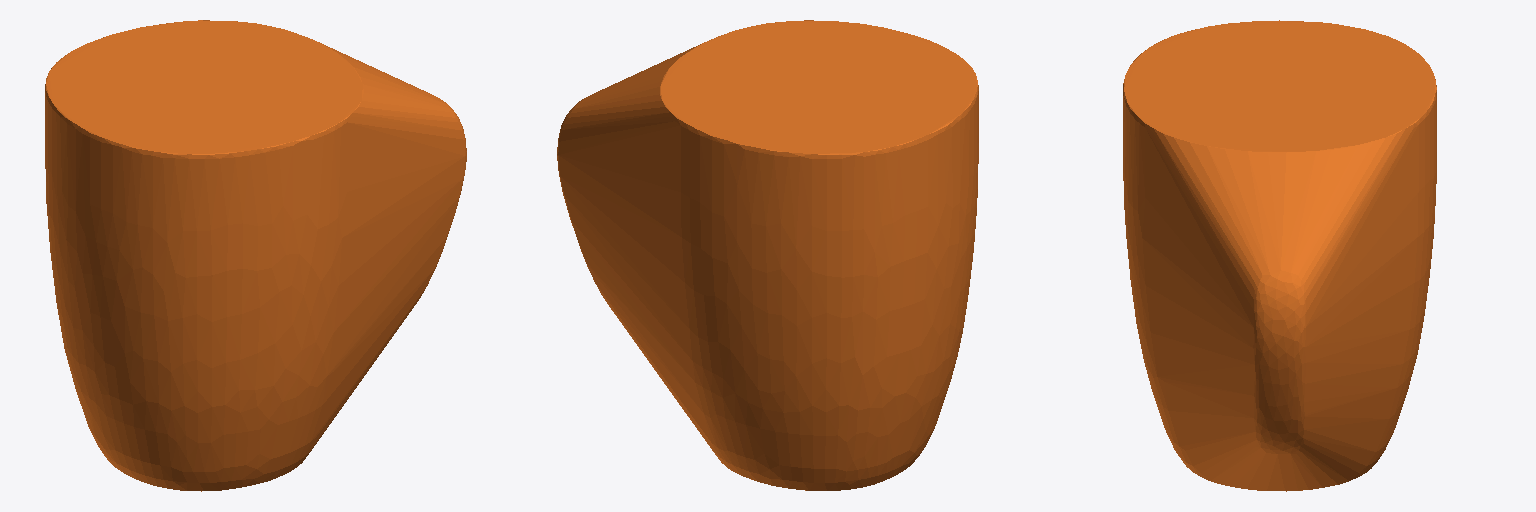
The robot description file, URDF, robot "mug":
<?xml version="1.0"?>
<robot name="mug">
  <link name="base">
    <inertial>
      <mass value="0.3"/>
      <inertia ixx="5e-4" ixy="0" ixz="0" iyy="5e-4" iyz="0" izz="5e-4"/>
    </inertial>
    <visual>
      <origin xyz="0 0 0" rpy="0 0 0"/>
      <geometry><mesh filename="mug_hull.stl"/></geometry>
      <material name="orange"><color rgba="0.9 0.5 0.2 1.0"/></material>
    </visual>
    <collision>
      <origin xyz="0 0 0" rpy="0 0 0"/>
      <geometry><mesh filename="mug_mesh.stl"/></geometry>
    </collision>
  </link>
</robot>

--- Facts derived from the render (not from the file) ---
Views: 3 orthographic renders of the robot side by side, from view 1: azimuth 30°, elevation 25°; view 2: azimuth 150°, elevation 25°; view 3: azimuth 270°, elevation 25°.
Model mug with 1 links and 0 joints (none), rooted at base, posed all joints at 0.
Visible links, largest first — view 1: base; view 2: base; view 3: base.
Boxes of the visible links, left/top/right/bottom form: base: left=45, top=20, right=466, bottom=491; base: left=557, top=20, right=978, bottom=490; base: left=1123, top=20, right=1436, bottom=491.
Size in the robot's own frame: 0.1219 by 0.0847 by 0.1081 metres.
1 mesh visuals loaded from 1 distinct referenced files (1 binary STL).
